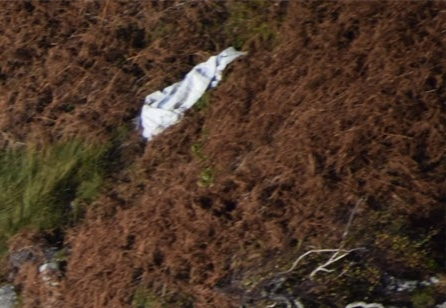net: (137, 43, 252, 142)
